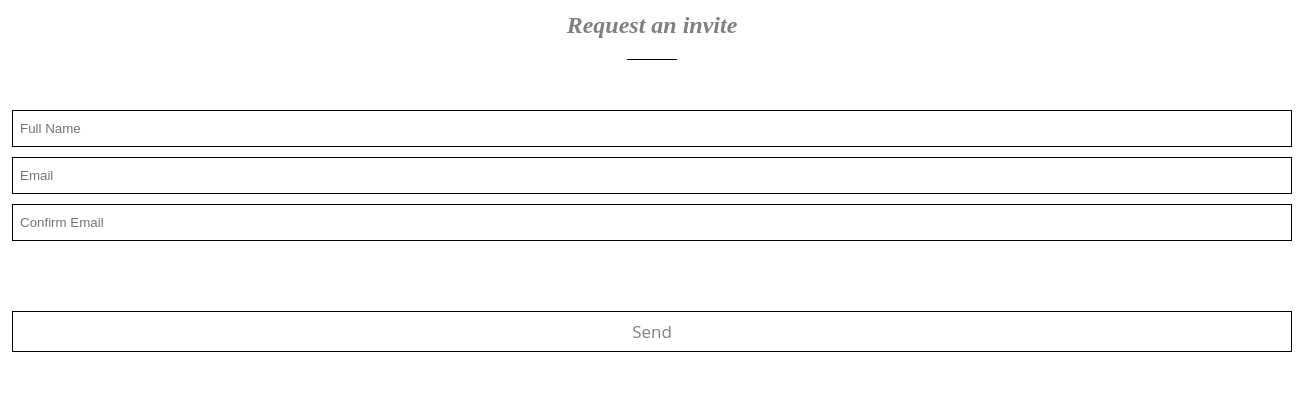
Test: RequestInviteForm › show the error message if validation passed but server returns 400
Step 1. Type "Stephen Shi" into the field with placeholder "Full Name" → (652, 128), box [12, 110, 1292, 147]
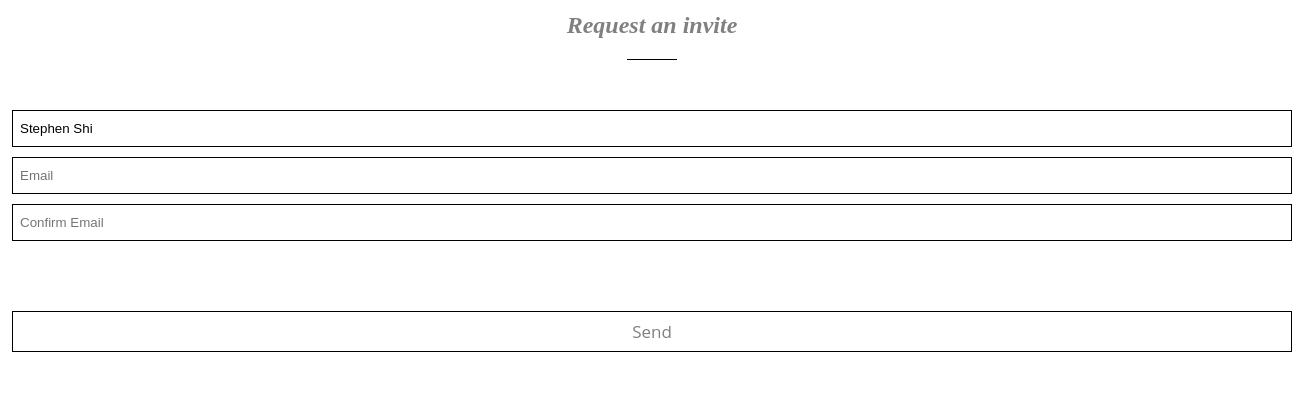
Step 2. Type "usedemail@airwallex.com" into the field with placeholder "Email" → (652, 175), box [12, 157, 1292, 194]
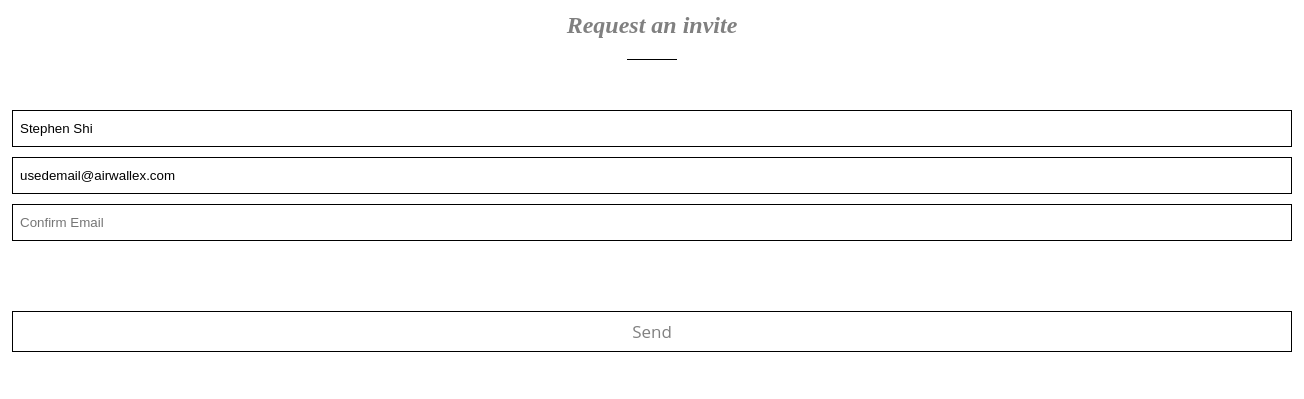
Step 3. Type "usedemail@airwallex.com" into the field with placeholder "Confirm Email" → (652, 222), box [12, 204, 1292, 241]
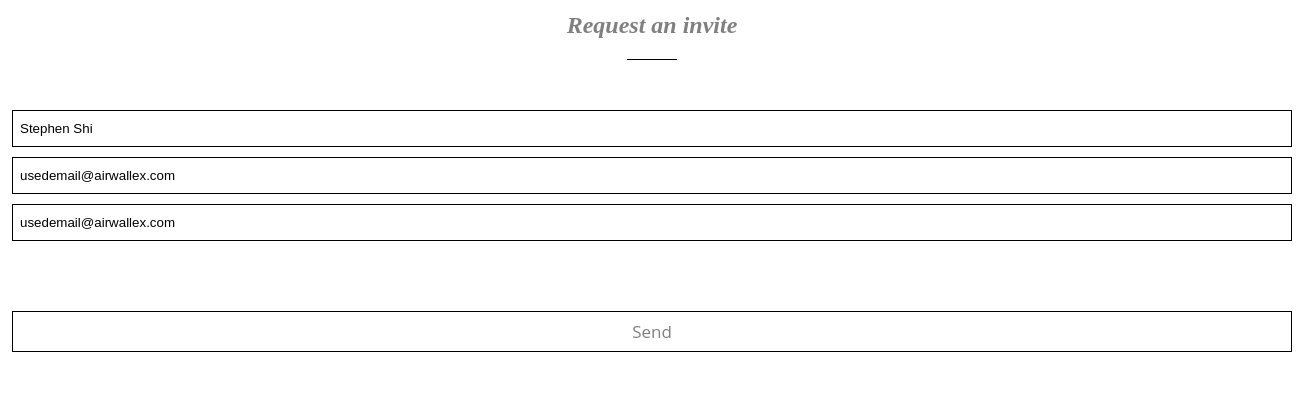
Step 4. Click the button with test id "submit-button" → (652, 331), box [12, 311, 1292, 352]
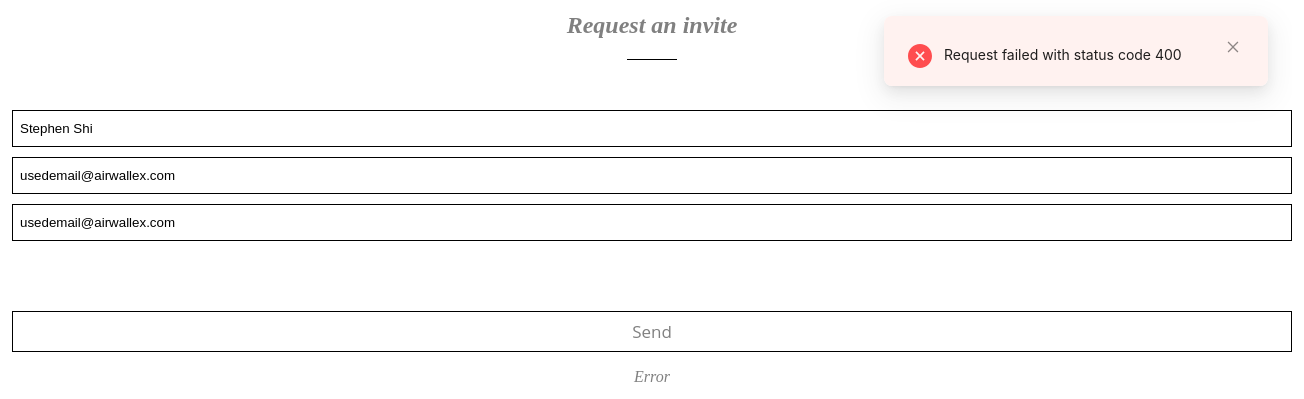
Expected: the text "Request failed with status code 400" is shown, [944, 46, 1182, 63]
